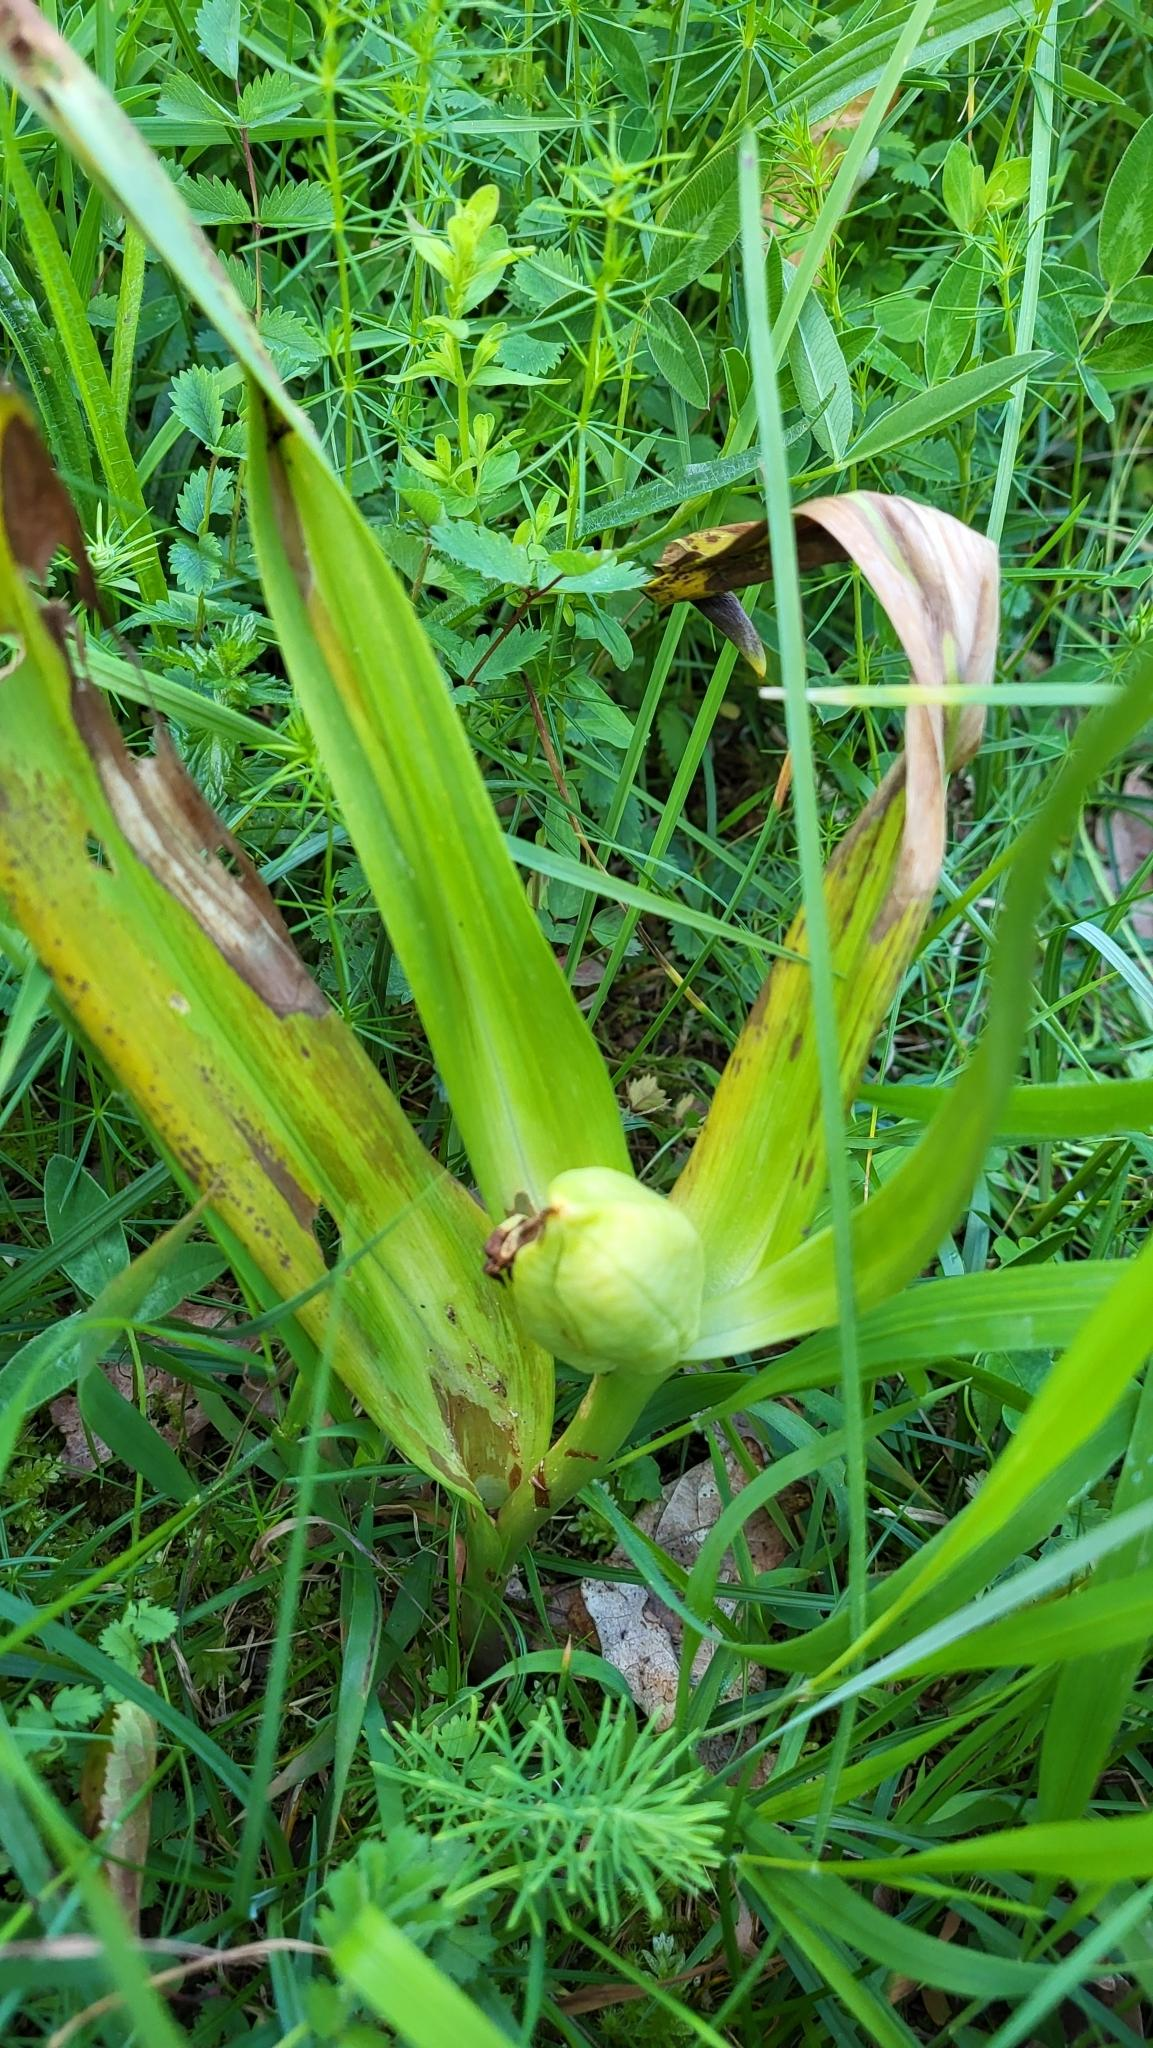Colchicum autumnale L: (20, 396, 1153, 1674)
